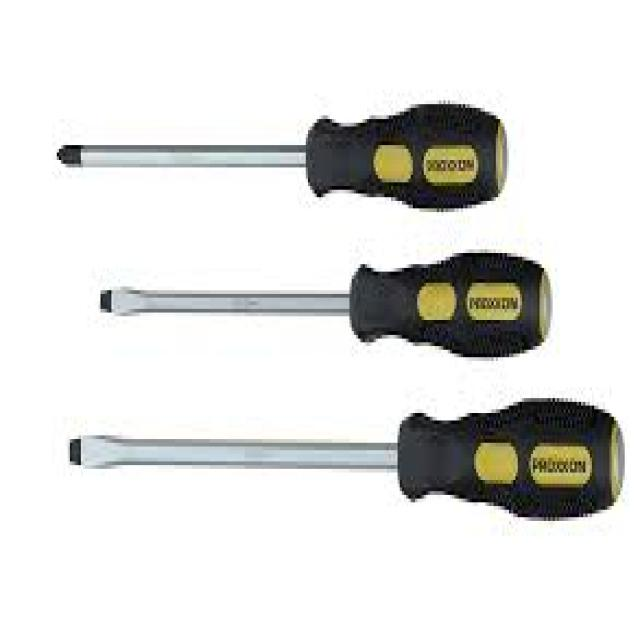screw driver: (54, 363, 640, 544), (68, 230, 622, 364), (47, 92, 538, 222)
